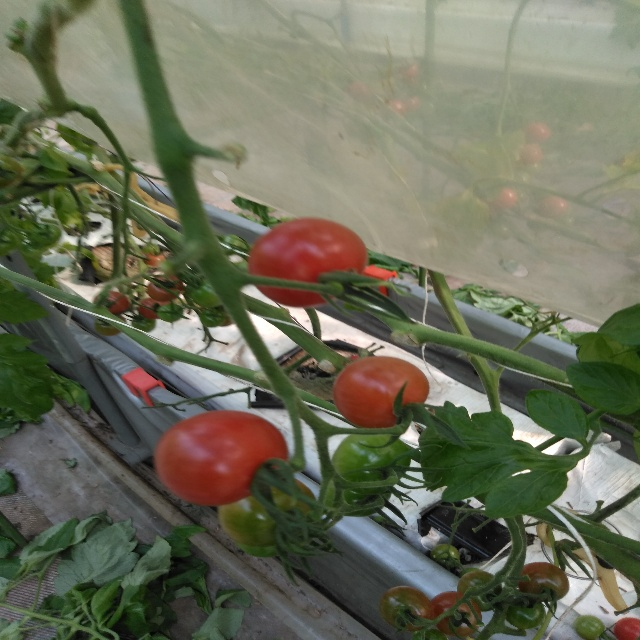l_fully_ripened: (156, 411, 289, 506), (248, 217, 368, 307), (333, 355, 430, 428)
l_green: (218, 474, 318, 548), (331, 432, 410, 496)
